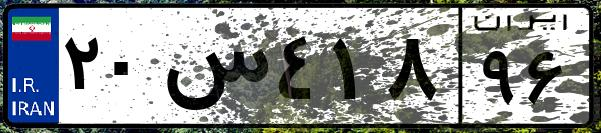0: (110, 28, 158, 98)
1: (330, 28, 385, 110)
2: (57, 26, 110, 100)
4: (270, 28, 330, 110)
6: (525, 38, 570, 115)
8: (385, 28, 445, 110)
9: (475, 38, 525, 113)
س: (158, 20, 270, 120)
